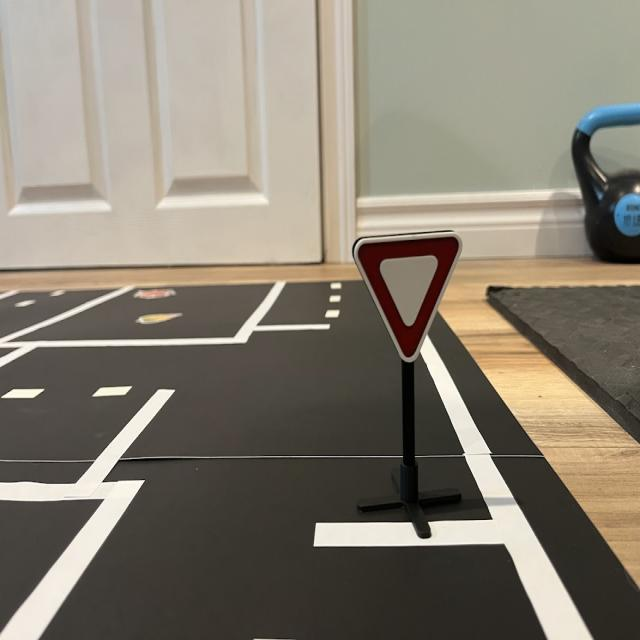sign_yield: (354, 233, 464, 362)
